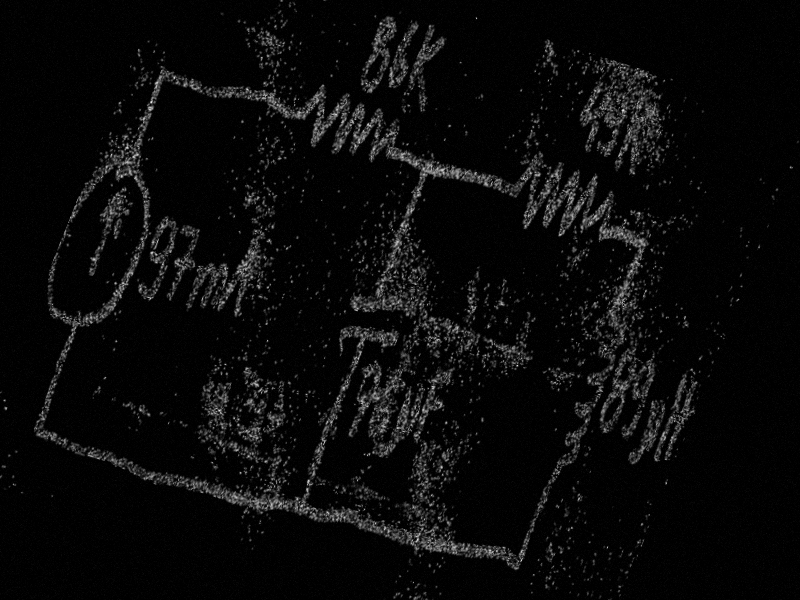4: (565, 78, 619, 156)
6: (360, 356, 414, 444), (378, 16, 429, 94)
7: (151, 217, 213, 309), (333, 353, 394, 444)
8: (587, 344, 647, 442), (349, 12, 409, 101)
9: (124, 208, 190, 308), (609, 356, 664, 446), (586, 85, 638, 168)
A: (210, 226, 272, 321)
F: (406, 361, 459, 445)
H: (645, 371, 704, 468)
k: (391, 21, 458, 124), (606, 97, 663, 181)
m: (180, 255, 235, 317)
u: (374, 379, 431, 466), (622, 395, 672, 470)
